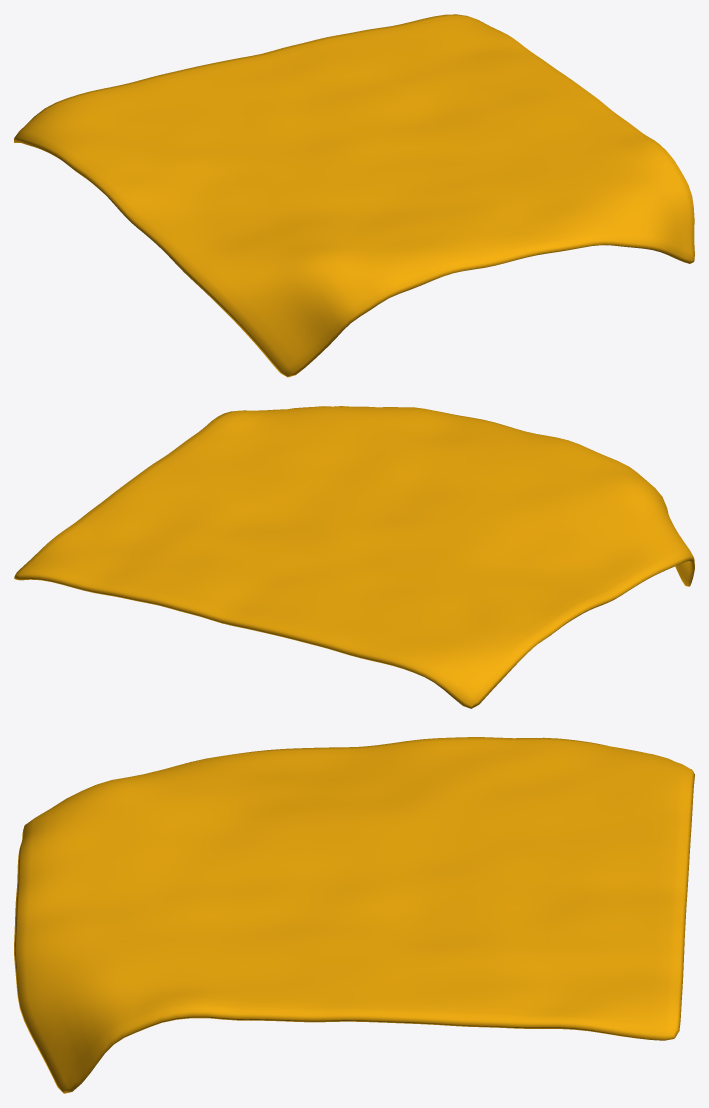
Rendered from BlueCheese3.fbx.
The picture shows the model from 3 angles, top to bottom: view 1: azimuth 30°, elevation 25°; view 2: azimuth 150°, elevation 25°; view 3: azimuth 270°, elevation 25°; orthographic projection. The views are drawn at different scales.
Parts seen in each view (by area): view 1: Queijo.001; view 2: Queijo.001; view 3: Queijo.001.
Boxes of the visible parts, x1,y1,x2,y2 form: Queijo.001: (14,14,694,377); Queijo.001: (14,406,694,708); Queijo.001: (14,737,694,1093).
Size of the model in its own units: 35.74 by 7.24 by 35.73.
